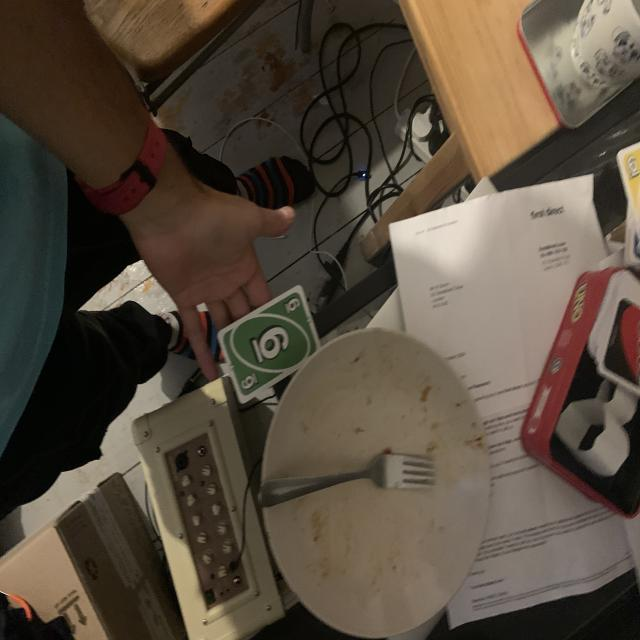lgreen-6: (281, 294, 302, 317)
